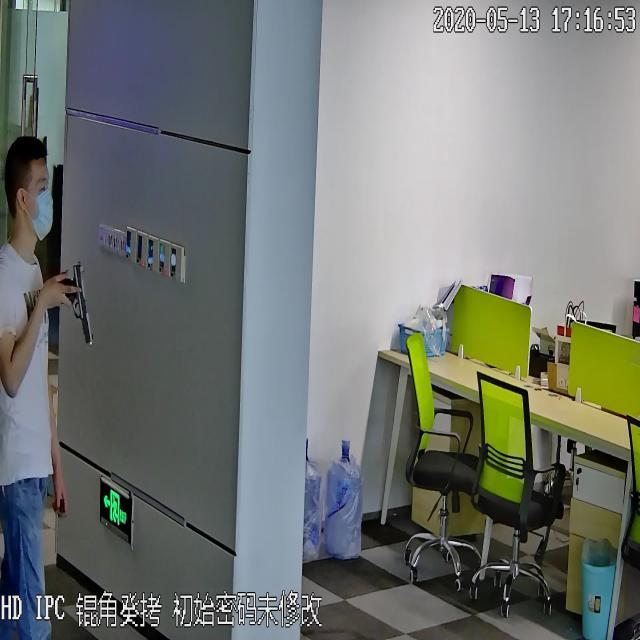gun: (52, 258, 96, 348)
